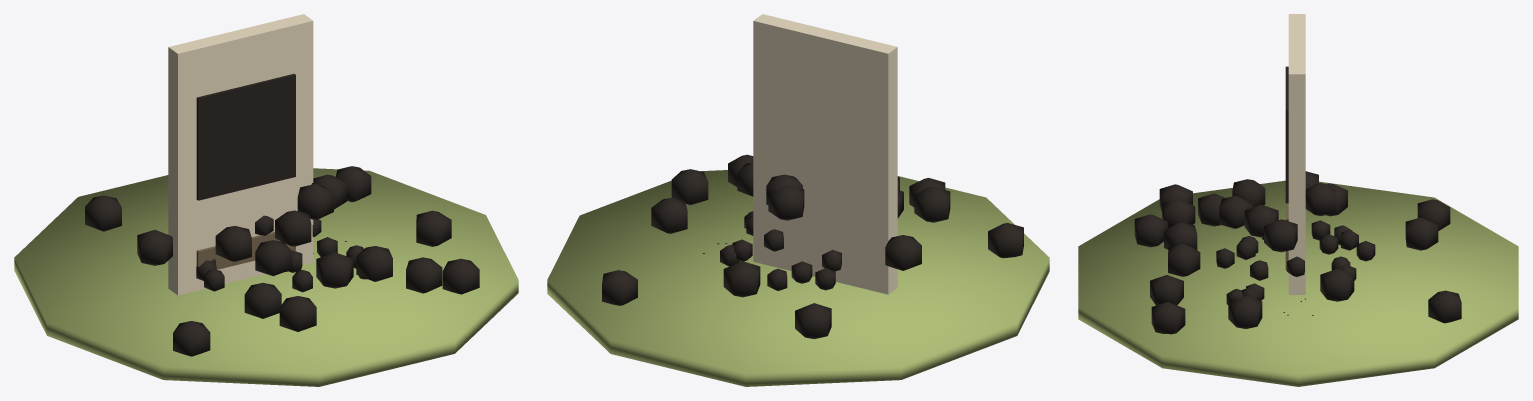
Rendered from Crop_Pepper.fbx.
3 views of the same model, side by side, from view 1: azimuth 30°, elevation 25°; view 2: azimuth 150°, elevation 25°; view 3: azimuth 270°, elevation 25° (orthographic). The views are drawn at different scales.
Visible parts, largest first — view 1: Crop_Pepper__Stack, Crop_Pepper__Seed, Crop_Pepper; view 2: Crop_Pepper__Stack, Crop_Pepper__Seed, Crop_Pepper; view 3: Crop_Pepper__Stack, Crop_Pepper__Seed, Crop_Pepper.
Boxes of the visible parts, <box> form: Crop_Pepper__Stack: <box>14,166,518,386</box>; Crop_Pepper__Seed: <box>168,14,346,295</box>; Crop_Pepper: <box>196,215,367,292</box>; Crop_Pepper__Stack: <box>547,154,1049,386</box>; Crop_Pepper__Seed: <box>703,14,897,294</box>; Crop_Pepper: <box>720,211,841,290</box>; Crop_Pepper__Stack: <box>1078,171,1518,386</box>; Crop_Pepper__Seed: <box>1283,14,1313,315</box>; Crop_Pepper: <box>1216,219,1375,304</box>.
Size of the model in its own units: 0.162 by 0.09 by 0.1541.
